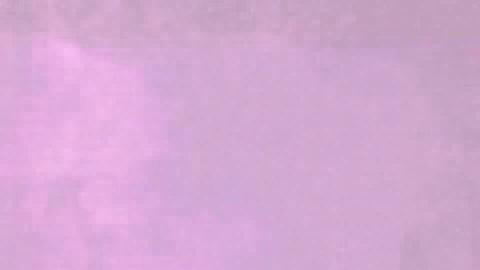tomato: (2, 126, 96, 268)
